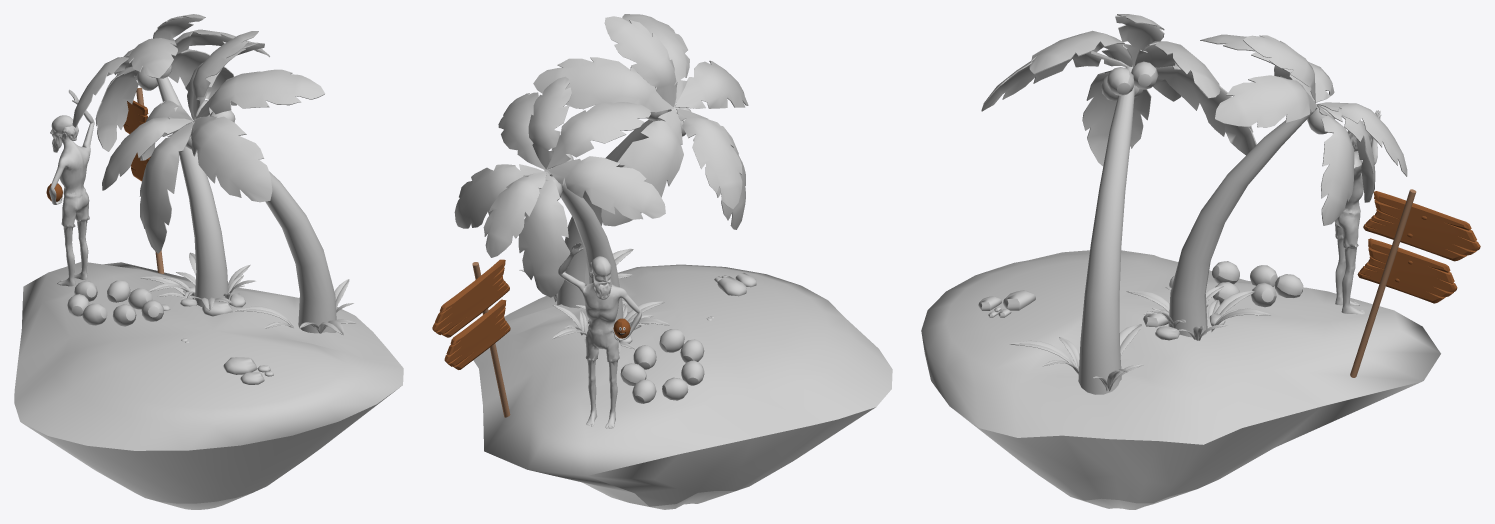
File: oldman_island.fbx
3 renders of one model, left to right at view 1: azimuth 30°, elevation 25°; view 2: azimuth 150°, elevation 25°; view 3: azimuth 270°, elevation 25°, orthographic. The views are drawn at different scales.
Parts seen in each view (by area): view 1: island, leaf.2, leaf, tree.2, tree, oldman, coconut1, rock, sign, grass6.2, grass6, grass6.1; view 2: island, leaf, leaf.2, sign, oldman, coconut1, tree.2, tree, rock, grass6.1; view 3: island, leaf, leaf.2, tree.2, sign, tree, coconut1, oldman, rock, grass6.2, grass6.1, grass6.
Boxes of the visible parts, left/top/right/bottom form: island: left=14, top=262, right=403, bottom=509; leaf.2: left=102, top=31, right=325, bottom=253; leaf: left=72, top=14, right=269, bottom=151; tree.2: left=193, top=118, right=336, bottom=333; tree: left=156, top=77, right=228, bottom=307; oldman: left=49, top=89, right=94, bottom=286; coconut1: left=67, top=65, right=235, bottom=326; rock: left=162, top=287, right=273, bottom=384; sign: left=123, top=87, right=164, bottom=273; grass6.2: left=235, top=279, right=355, bottom=334; grass6: left=149, top=252, right=255, bottom=299; grass6.1: left=141, top=264, right=250, bottom=310; island: left=473, top=264, right=892, bottom=509; leaf: left=454, top=76, right=665, bottom=297; leaf.2: left=533, top=14, right=748, bottom=229; sign: left=432, top=259, right=510, bottom=417; oldman: left=558, top=243, right=641, bottom=428; coconut1: left=545, top=107, right=704, bottom=403; tree.2: left=556, top=104, right=678, bottom=308; tree: left=544, top=167, right=623, bottom=324; rock: left=588, top=273, right=756, bottom=343; grass6.1: left=553, top=301, right=664, bottom=353; island: left=921, top=250, right=1440, bottom=509; leaf: left=1200, top=34, right=1407, bottom=225; leaf.2: left=981, top=14, right=1256, bottom=166; tree.2: left=1078, top=66, right=1135, bottom=394; sign: left=1350, top=189, right=1480, bottom=377; tree: left=1168, top=103, right=1317, bottom=337; coconut1: left=1101, top=61, right=1334, bottom=307; oldman: left=1334, top=110, right=1381, bottom=314; rock: left=978, top=290, right=1225, bottom=340; grass6.2: left=1009, top=324, right=1143, bottom=391; grass6.1: left=1126, top=290, right=1254, bottom=340; grass6: left=1147, top=286, right=1270, bottom=332.
Bounding box in the file's own units: 137 × 166 × 164.
